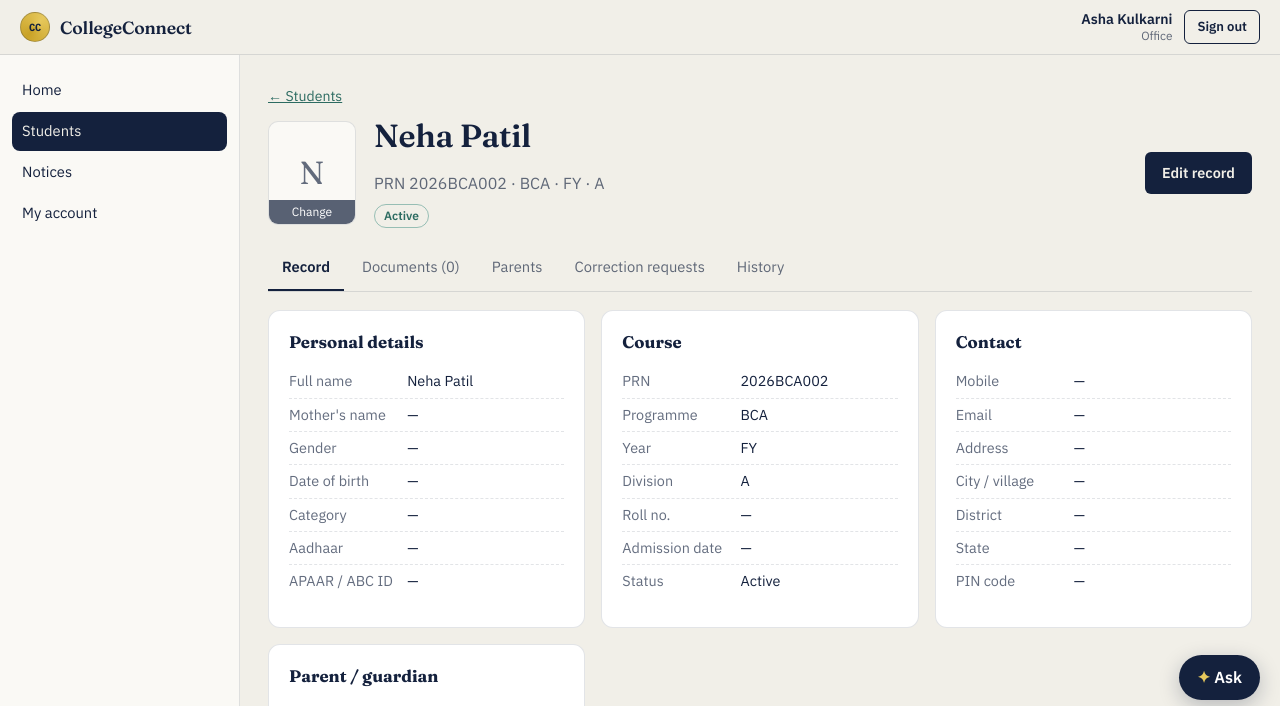
Test: parents › the office links a parent, recording consent for an under-18 student
Click the tab "Parents": (517, 269) [478,246,557,291]
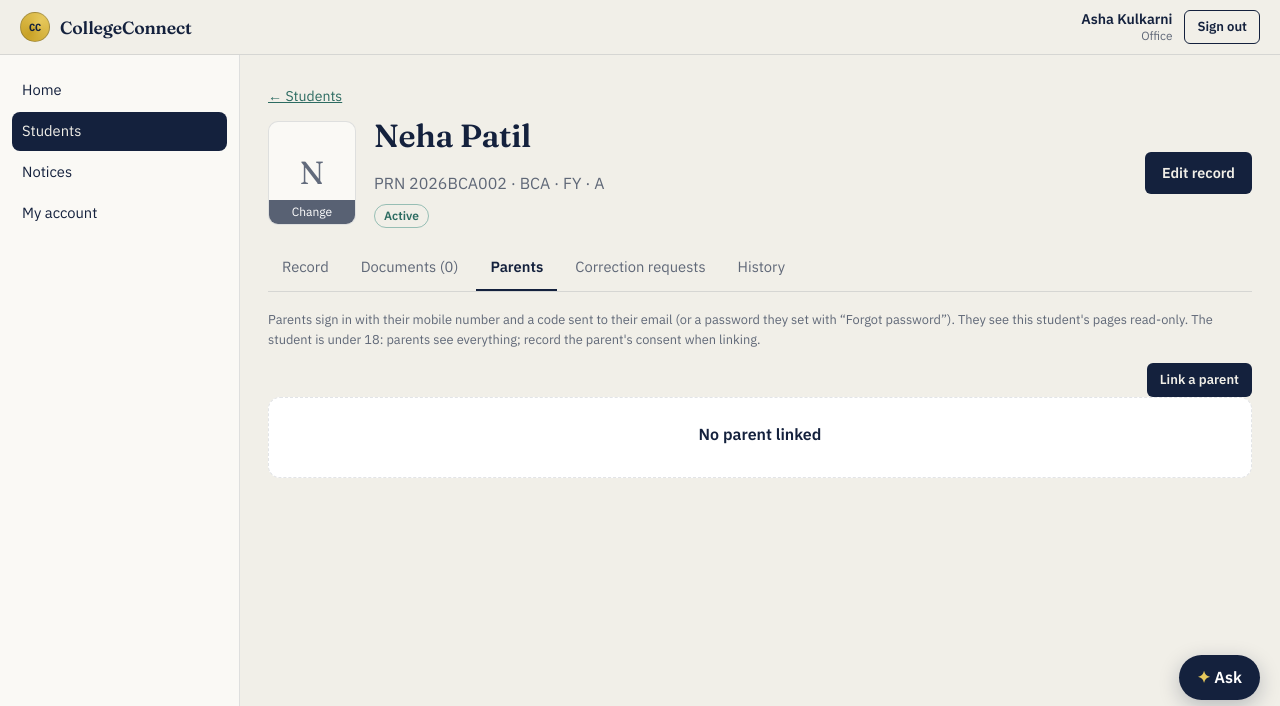
Click the button "Link a parent": (1199, 380) [1147,363,1252,397]
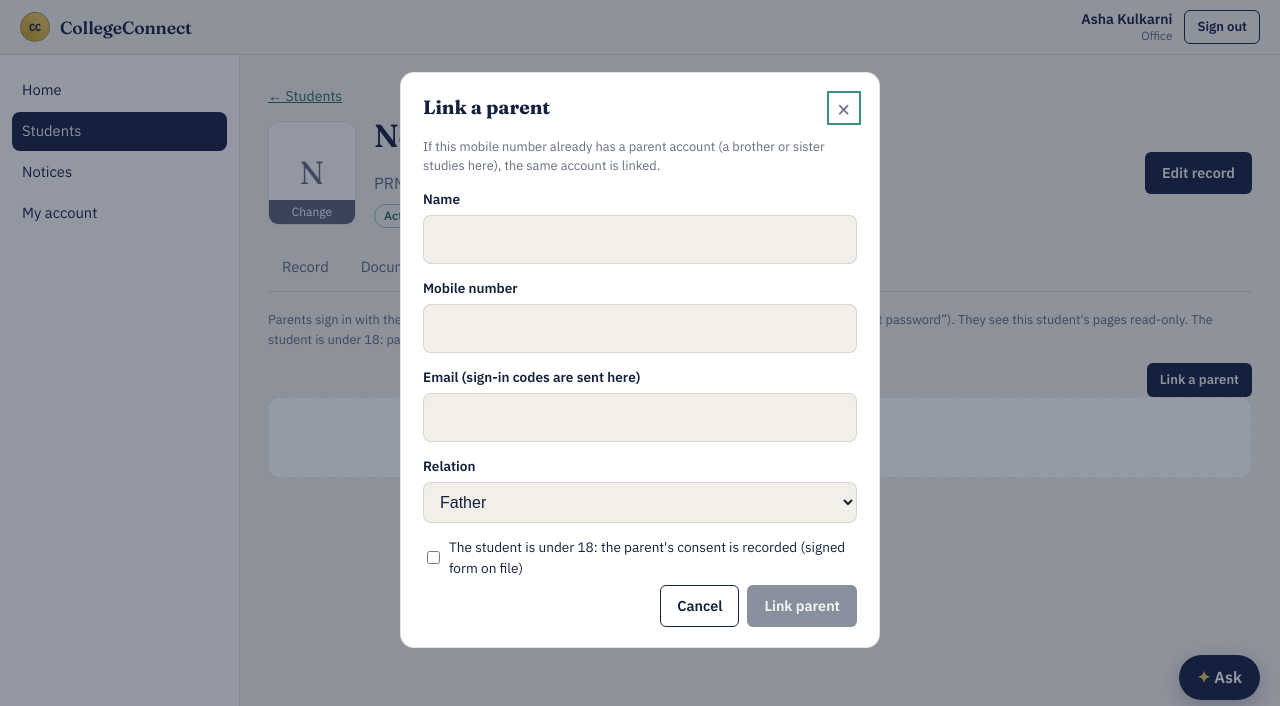
In the field labelled "Name": (640, 240) [423,215,857,264], type "Suresh Patil"
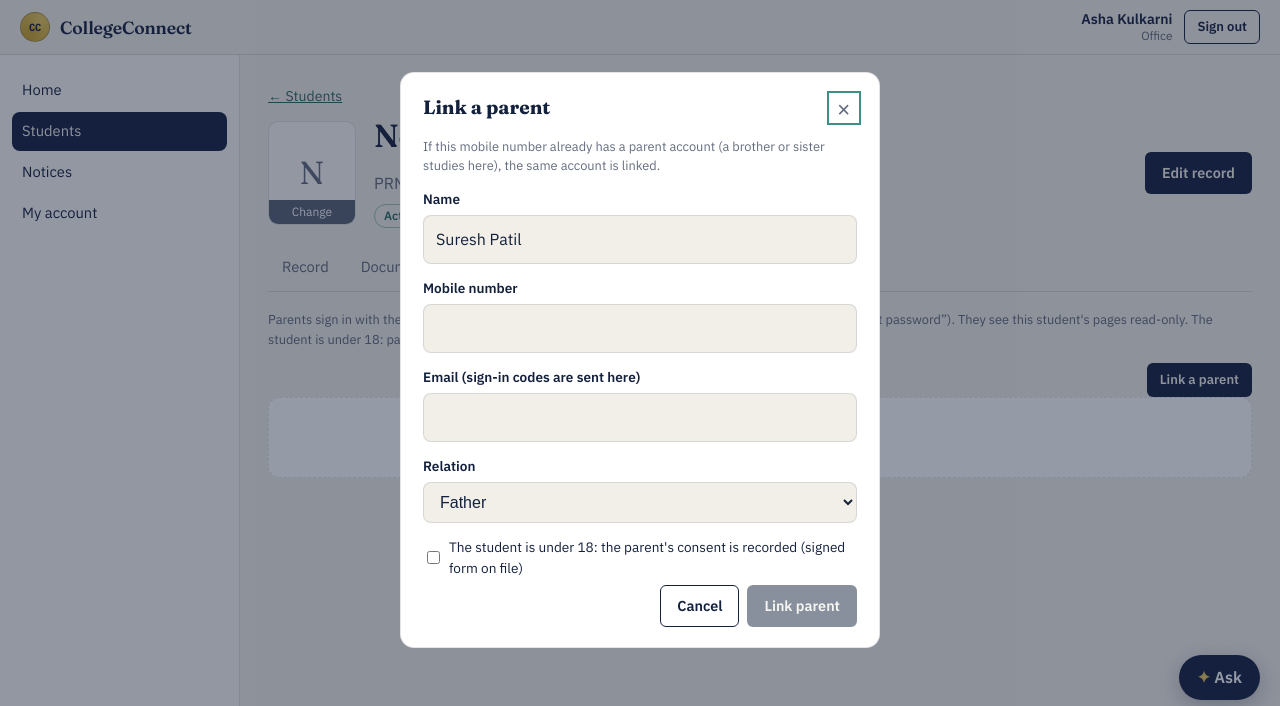
In the field labelled "Mobile number": (640, 328) [423,304,857,353], type "9876500001"
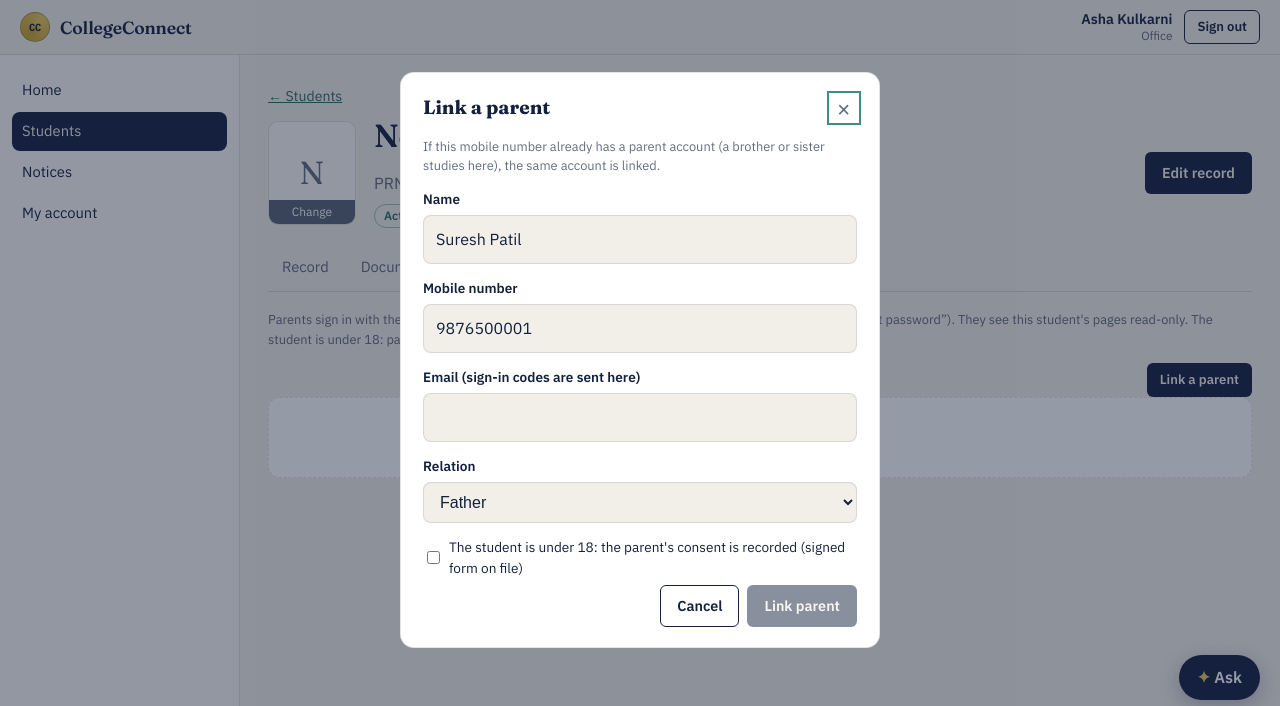
Expected: the button "Link parent" is disabled, [748,585,857,627]
Click the checkbox labelled "parent's consent is recorded": (434, 558) [427,551,440,564]
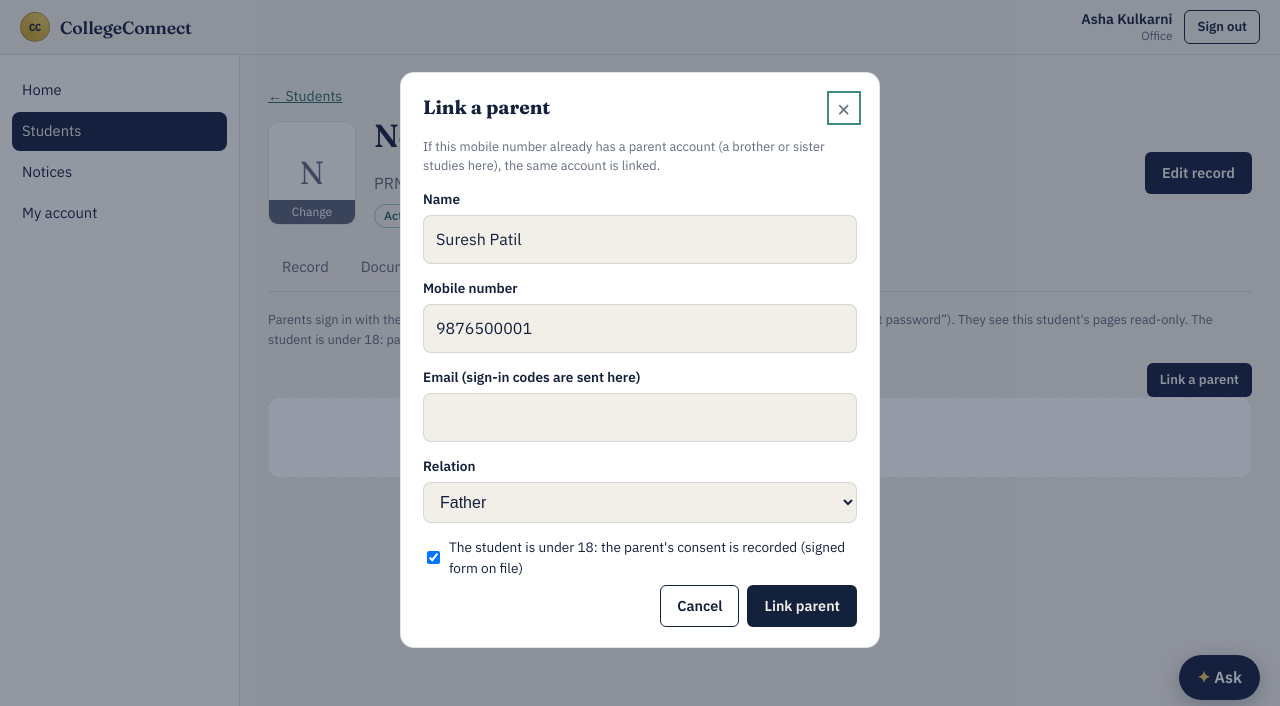
Click the button "Link parent": (802, 606) [748,585,857,627]
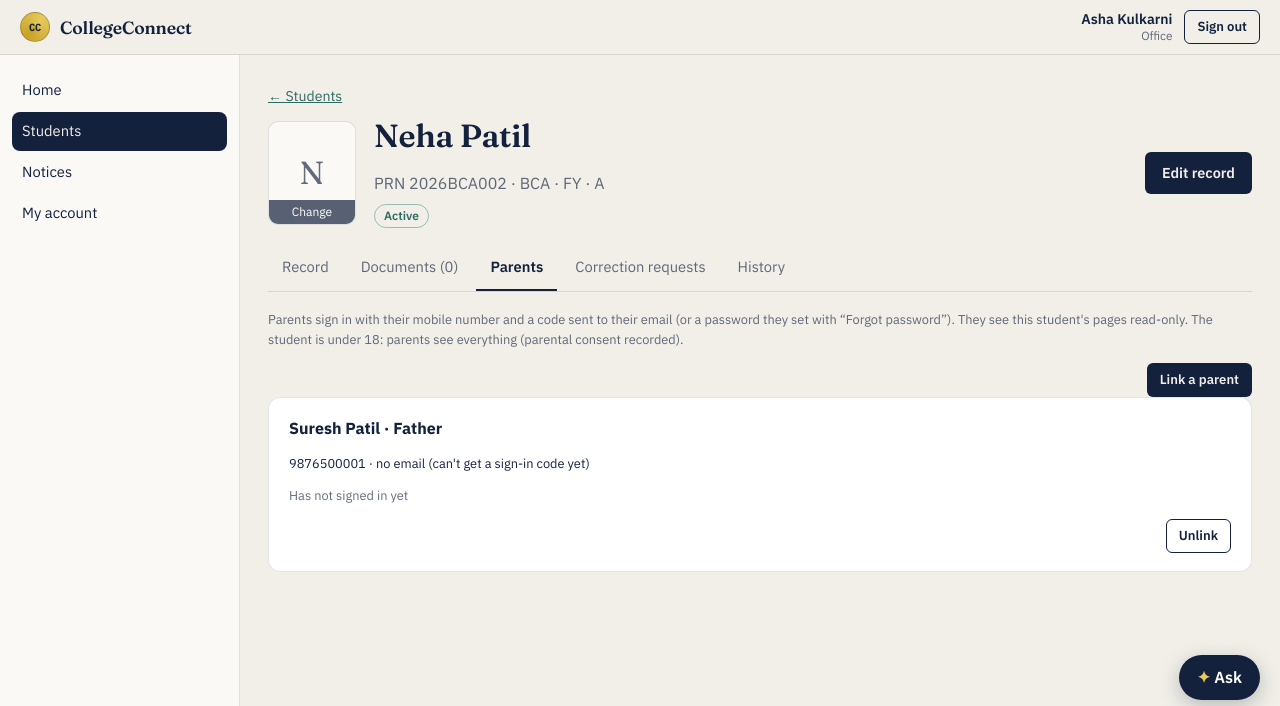
Expected: the text "9876500001 · no email (can't get a sign-in code yet)" is shown, [289,454,590,472]
